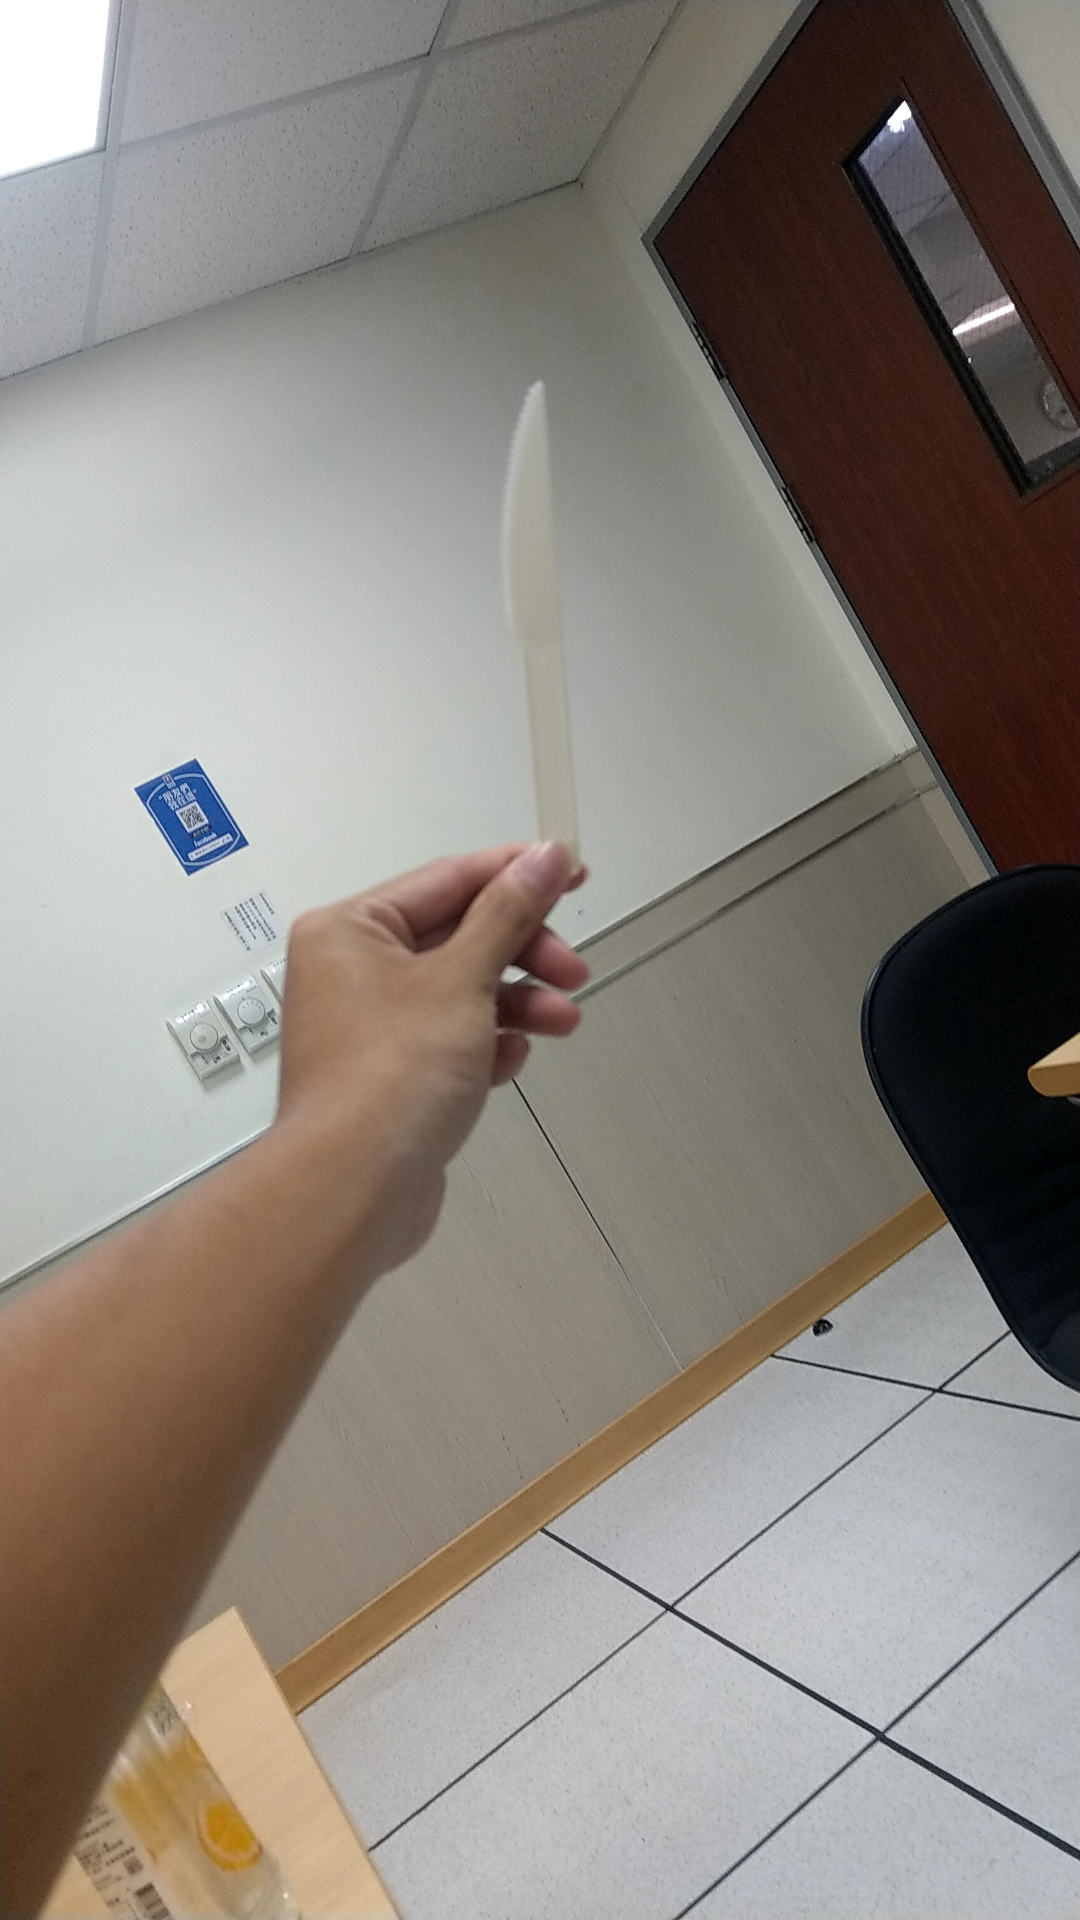knife: (493, 361, 615, 843)
